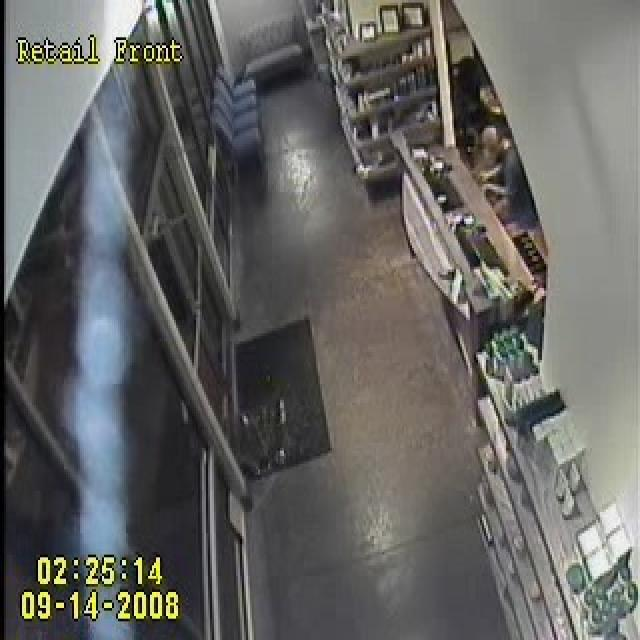thief: (456, 111, 528, 205)
